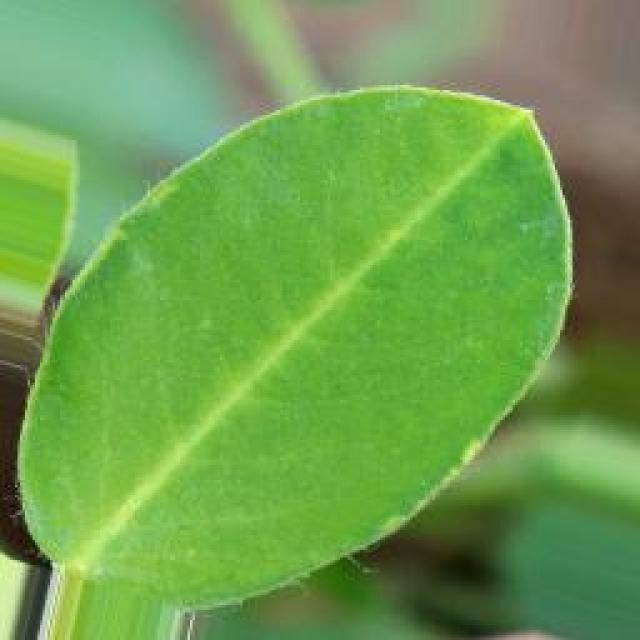Yellow_and_black_sigatoka: (4, 70, 578, 614)
